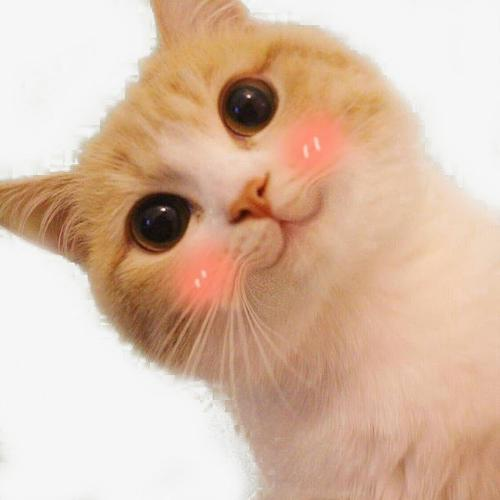cat: (5, 12, 417, 383)
